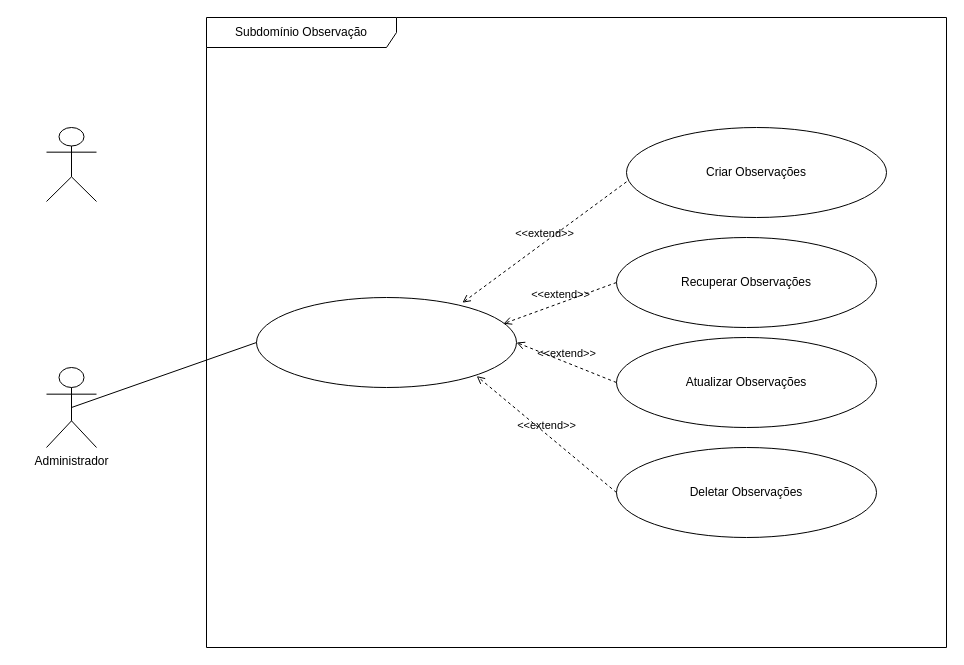
This 964x665 diagram has some shape labels left out. The shapes that lost their labels are listed below. From the top down, each one's centre as x and y in pixels, then its label:
At point 71,164: "Funcionário Sistema".
At point 386,342: "Registro de Observaçõoes".
